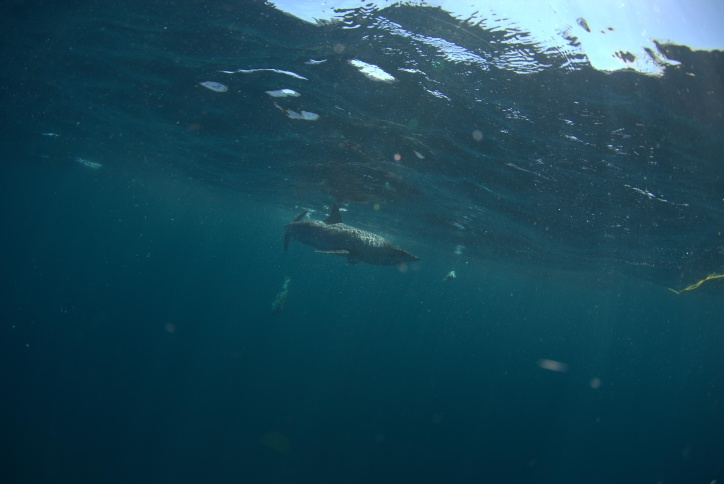Mako: (272, 197, 425, 284)
